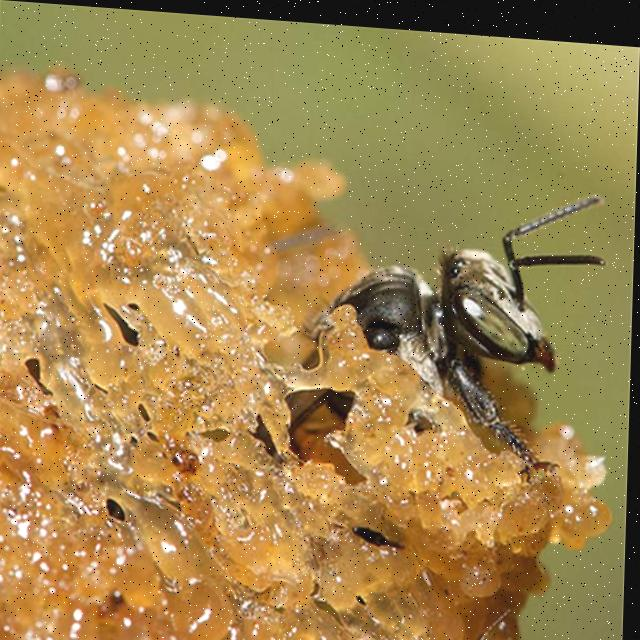Meliponula: (277, 159, 618, 484)
